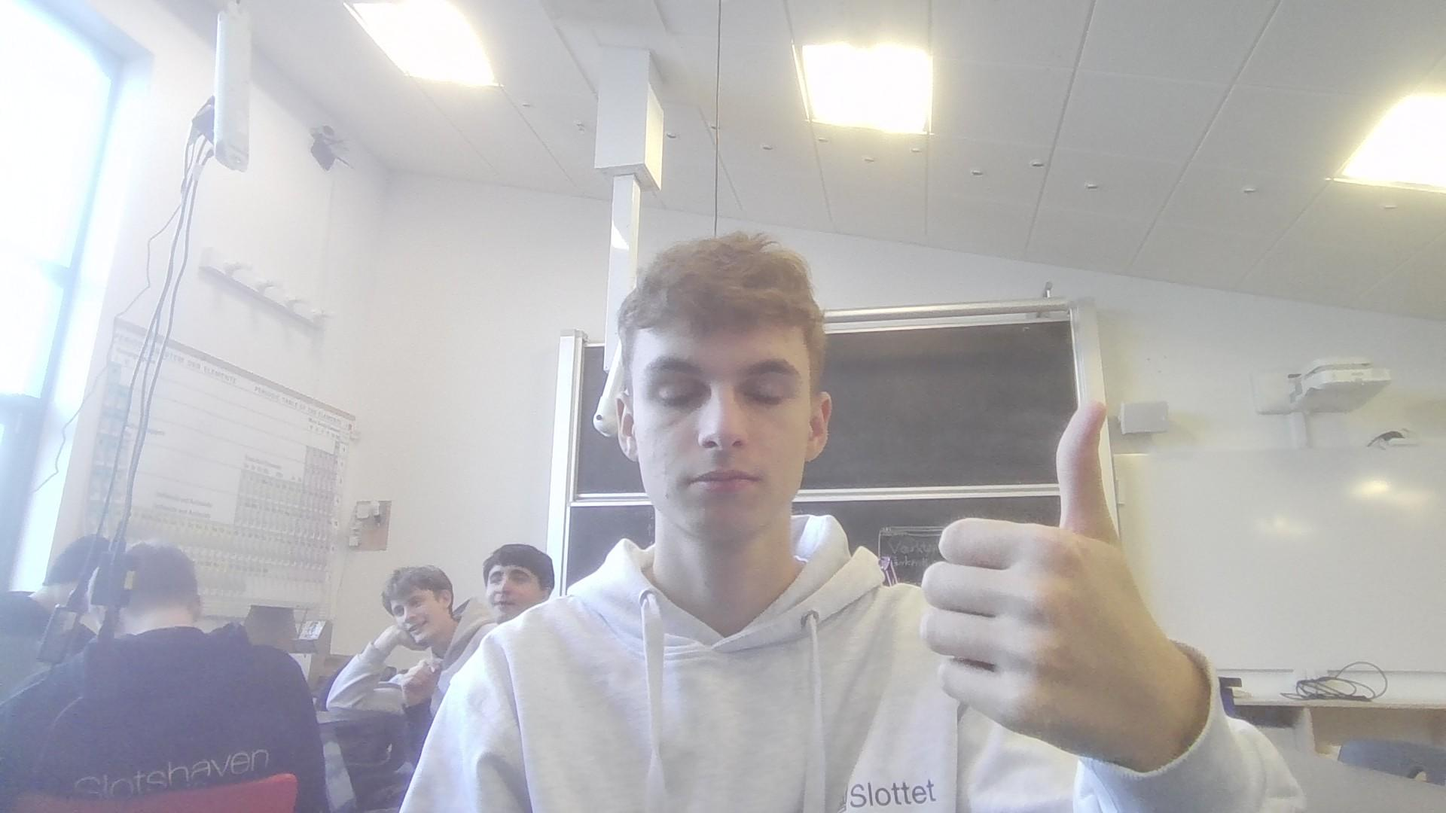thumbs up: (921, 392, 1186, 774)
